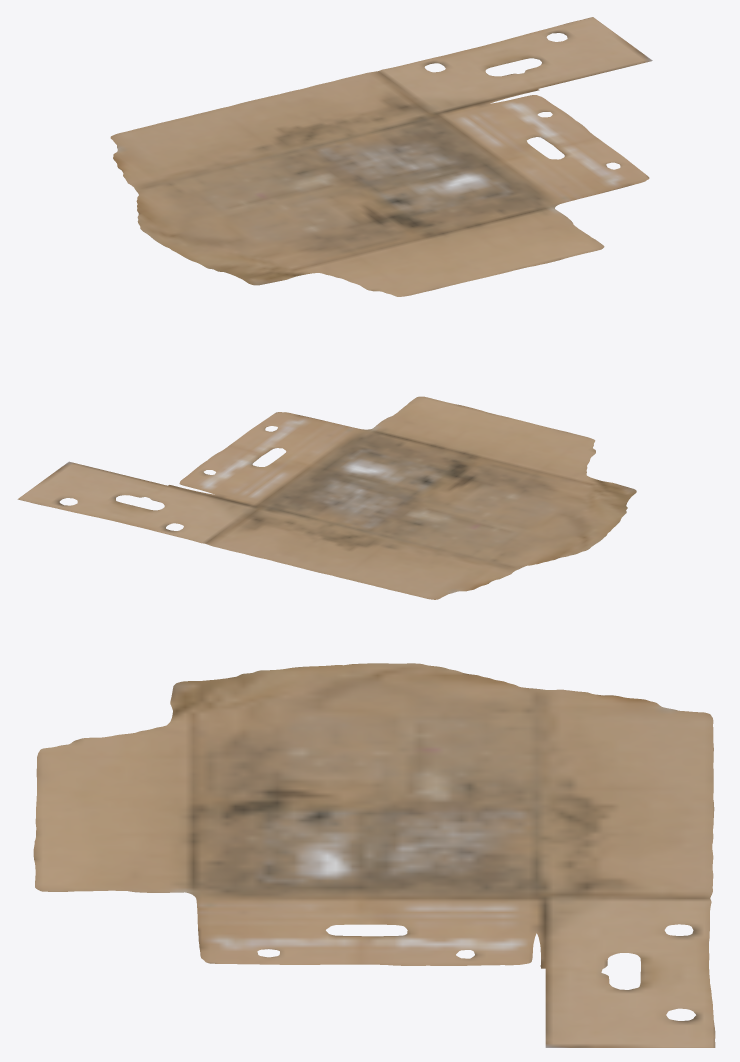
File: cardboard_slide_4.FBX
3 views of the same model, one above another, from view 1: azimuth 30°, elevation 25°; view 2: azimuth 150°, elevation 25°; view 3: azimuth 270°, elevation 25° (orthographic). The views are drawn at different scales.
Parts seen in each view (by area): view 1: cardboard_slide_4; view 2: cardboard_slide_4; view 3: cardboard_slide_4.
Boxes of the visible parts, x1,y1,x2,y2 form: cardboard_slide_4: [110, 17, 652, 296]; cardboard_slide_4: [17, 396, 636, 599]; cardboard_slide_4: [33, 663, 715, 1047].
Size of the model in its own units: 96.81 by 2.63e-05 by 73.38.
